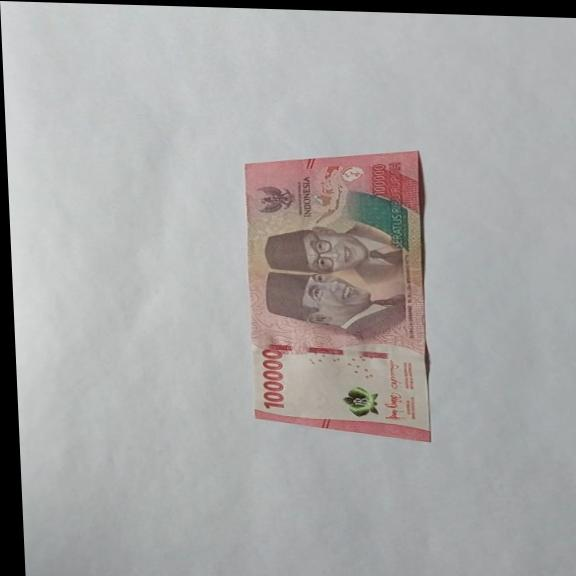Kertas: (239, 144, 435, 442), (258, 347, 286, 409)
